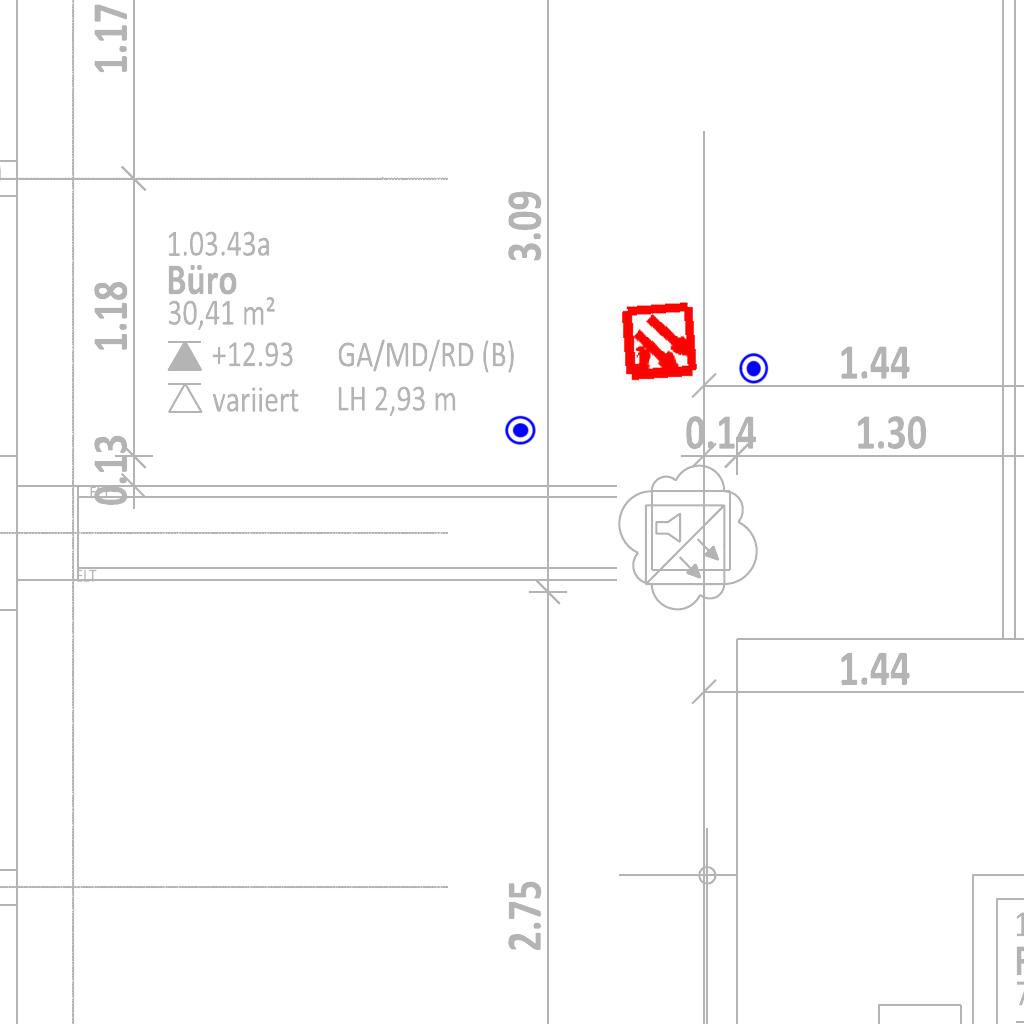OT_Multisensormelder_(Kombination_RMO_WMD): (599, 283, 720, 404)
Taster: (504, 415, 537, 448), (736, 352, 769, 385)
